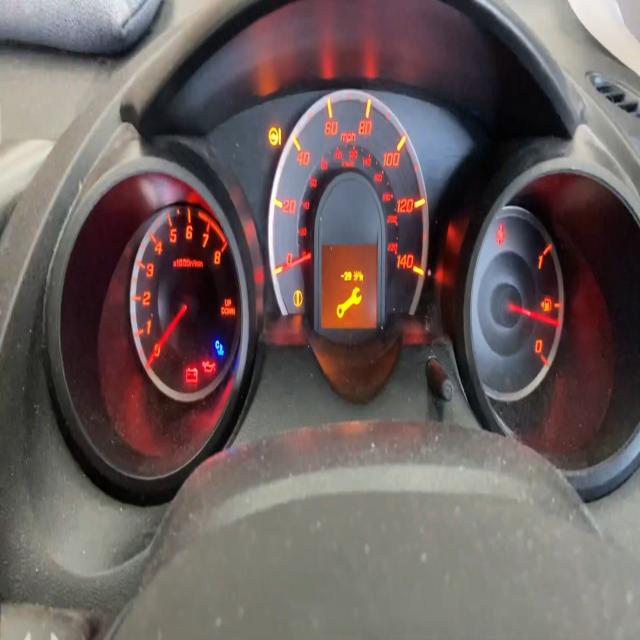Charging System Issue: (185, 366, 198, 383)
Low Engine Oil Warning Light: (202, 360, 216, 373)
